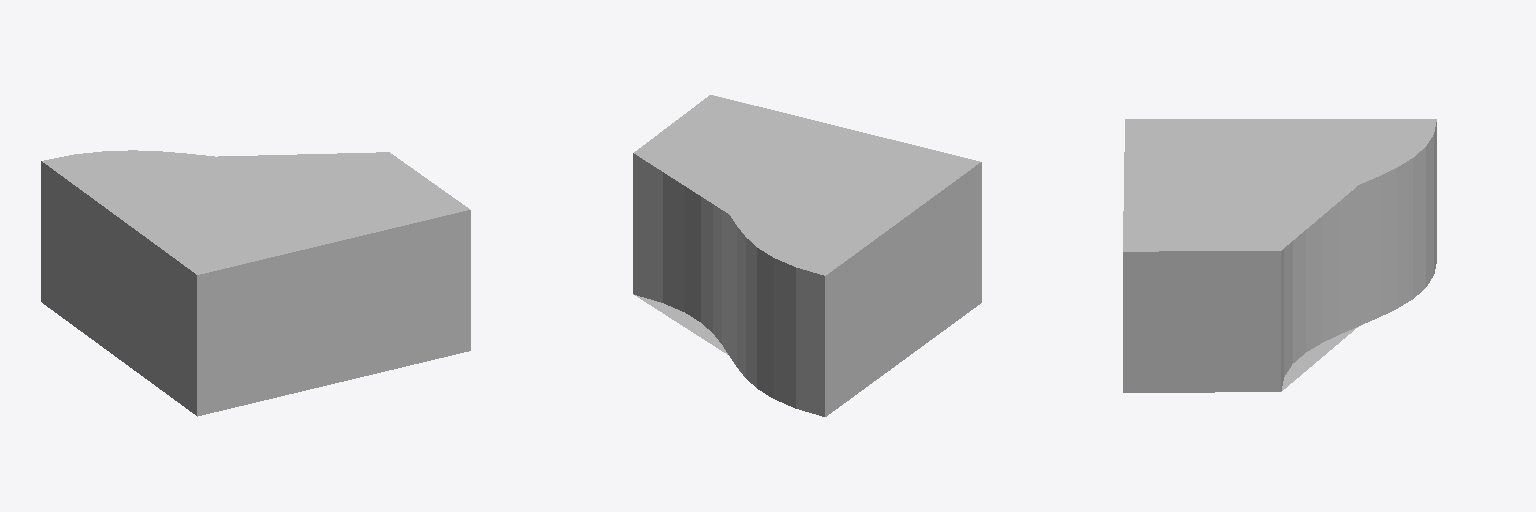
Rendered from RampCurved.obj.
3 renders of one model, left to right at view 1: azimuth 30°, elevation 25°; view 2: azimuth 150°, elevation 25°; view 3: azimuth 270°, elevation 25°, orthographic.
Visible parts, largest first — view 1: BezierCurve; view 2: BezierCurve; view 3: BezierCurve.
Part boxes in pixels (x1,y1,x2,y2): BezierCurve: (41, 150, 470, 416); BezierCurve: (633, 95, 981, 416); BezierCurve: (1123, 119, 1436, 392).
Size of the model in its own units: 2.01 by 1 by 2.02.